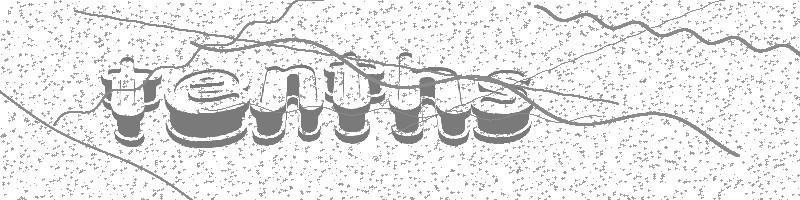e: (164, 64, 248, 146)
h: (388, 51, 471, 152)
n: (251, 63, 327, 150)
s: (470, 69, 541, 146)
t: (96, 46, 164, 146), (322, 48, 388, 146)
